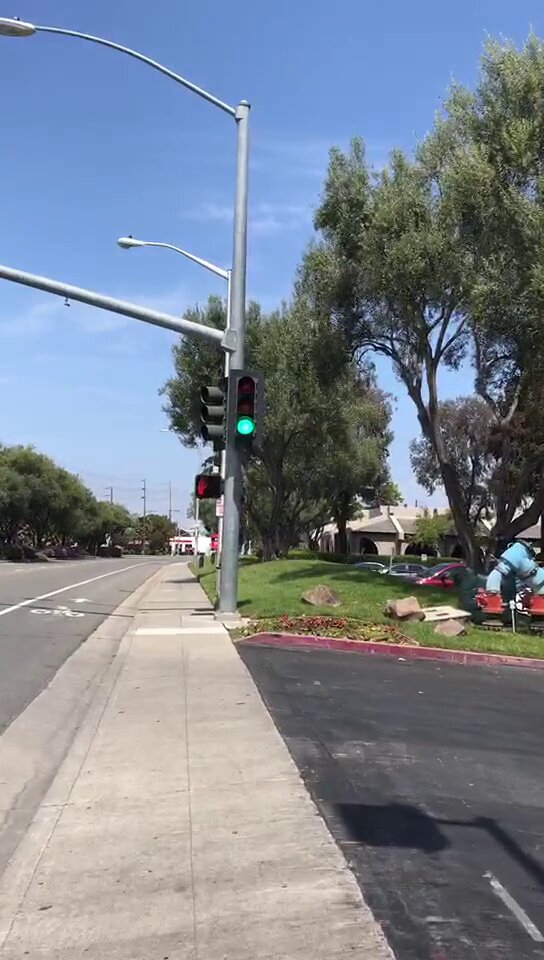green_light: (230, 370, 263, 441)
